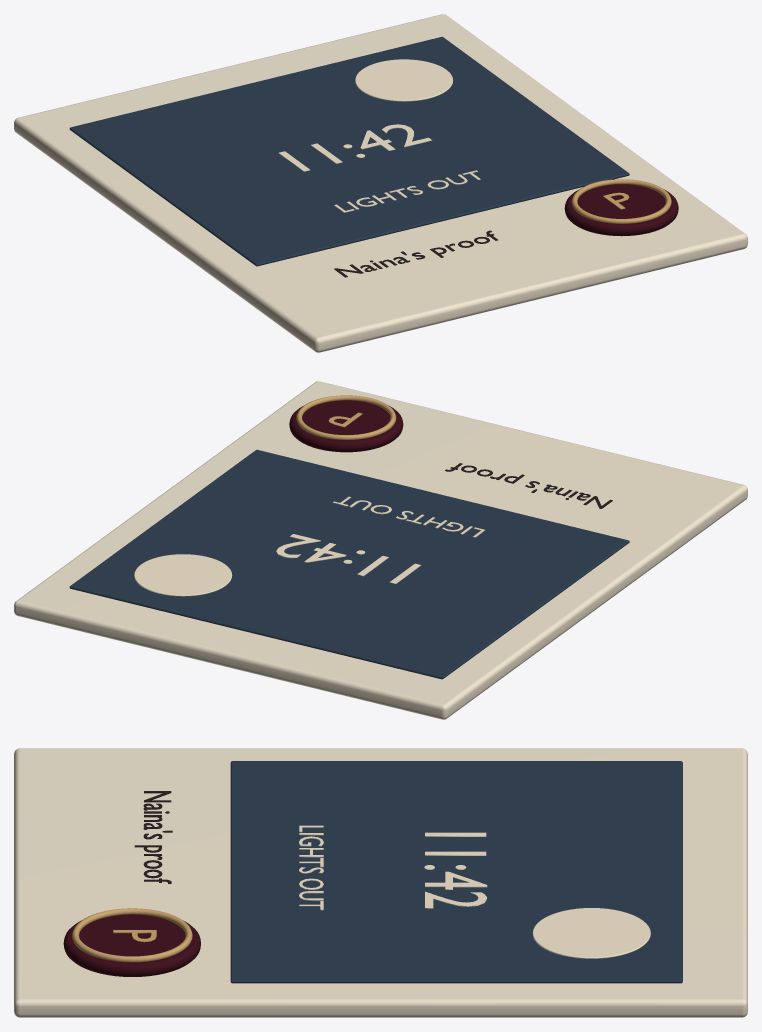
The model's file is proof.glb.
3 views of the same model, one above another, from view 1: azimuth 30°, elevation 25°; view 2: azimuth 150°, elevation 25°; view 3: azimuth 270°, elevation 25° (orthographic). The views are drawn at different scales.
Parts seen in each view (by area): view 1: proof_photo, proof_paper, wax_seal, moon, wax_ridge, proof_time, proof_signature, proof_caption; view 2: proof_photo, proof_paper, wax_seal, moon, wax_ridge, proof_time, proof_signature, proof_caption; view 3: proof_photo, proof_paper, wax_seal, moon, wax_ridge, proof_time, proof_signature, proof_caption.
Part boxes in pixels (bbox=[...]): proof_photo: bbox=[69, 36, 629, 266]; proof_paper: bbox=[14, 14, 747, 352]; wax_seal: bbox=[564, 184, 678, 236]; moon: bbox=[355, 59, 452, 101]; wax_ridge: bbox=[571, 179, 671, 223]; proof_time: bbox=[279, 124, 432, 171]; proof_signature: bbox=[334, 230, 497, 277]; proof_caption: bbox=[334, 170, 480, 212]; proof_photo: bbox=[69, 449, 629, 679]; proof_paper: bbox=[14, 381, 747, 719]; wax_seal: bbox=[289, 400, 403, 452]; moon: bbox=[134, 554, 232, 596]; wax_ridge: bbox=[296, 395, 396, 439]; proof_time: bbox=[276, 534, 421, 583]; proof_signature: bbox=[445, 463, 612, 508]; proof_caption: bbox=[332, 496, 485, 537]; proof_photo: bbox=[230, 761, 682, 983]; proof_paper: bbox=[14, 748, 747, 1017]; wax_seal: bbox=[63, 914, 200, 976]; moon: bbox=[532, 908, 650, 958]; wax_ridge: bbox=[72, 908, 192, 962]; proof_time: bbox=[424, 832, 487, 908]; proof_signature: bbox=[134, 791, 172, 883]; proof_caption: bbox=[299, 825, 323, 910].
Bounding box in the file's own units: 2.55 × 0.1895 × 3.1.
